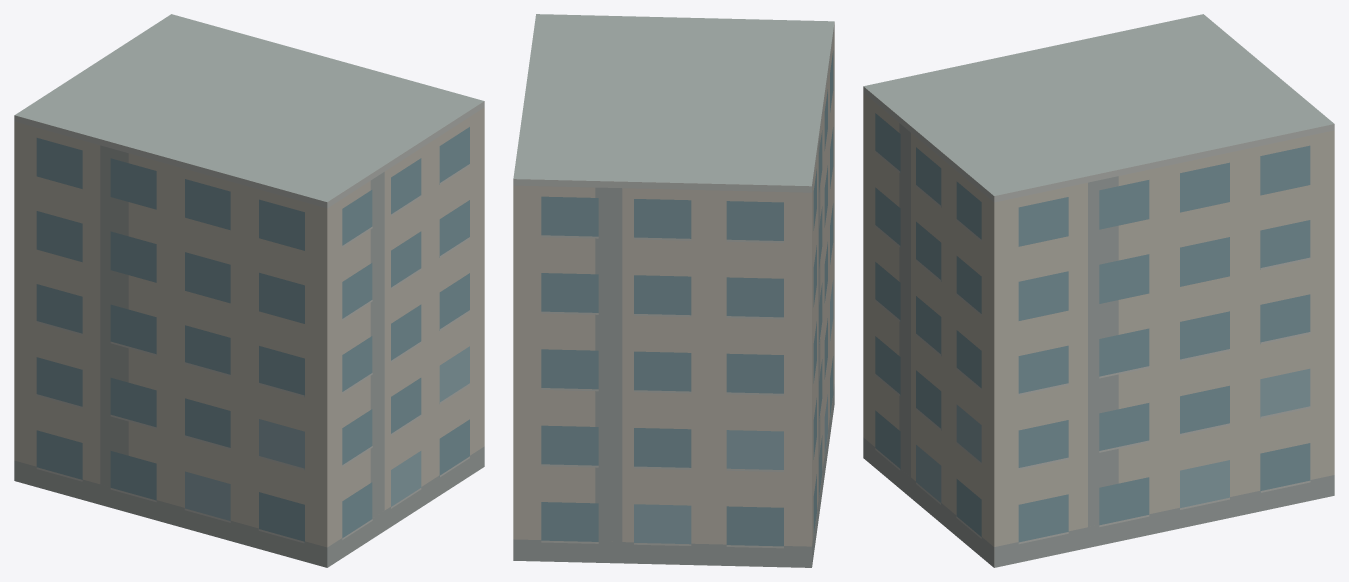
File: survey-upis-32942740.glb
3 renders of one model, left to right at view 1: azimuth 30°, elevation 25°; view 2: azimuth 150°, elevation 25°; view 3: azimuth 270°, elevation 25°, orthographic. The views are drawn at different scales.
Parts seen in each view (by area): view 1: survey-upis-32942740.tmp; view 2: survey-upis-32942740.tmp; view 3: survey-upis-32942740.tmp.
Part boxes in pixels (box(x1,y1,x2,y2)): survey-upis-32942740.tmp: box(14, 14, 484, 567); survey-upis-32942740.tmp: box(513, 14, 834, 567); survey-upis-32942740.tmp: box(863, 14, 1334, 567).
Bounding box in the file's own units: 15.03 × 14.3 × 16.44.
